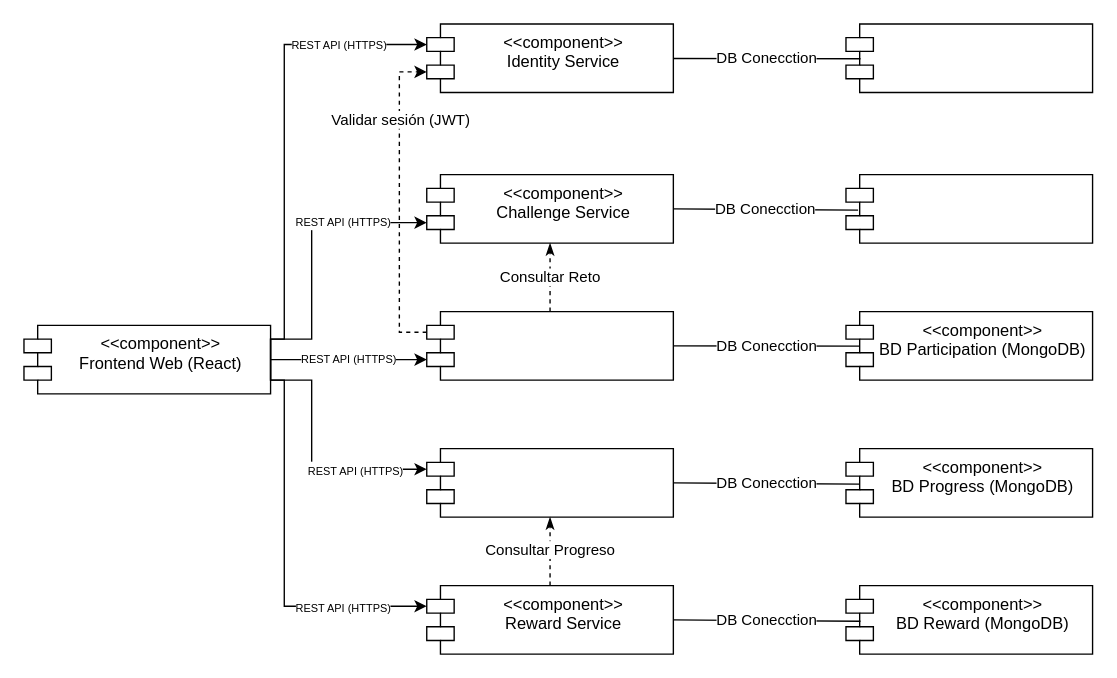
Image size: 1117x678. Some labels were removed from this diagram. Each missing label, with the centre of its shape:
"<<component>> BD Challenge (MongoDB)" goes at (x=969, y=208).
"<<component>> BD Identity (MongoDB)" goes at (x=969, y=57).
"<<component>> Participitacion Service" goes at (x=549, y=345).
"<<component>> Progress Service" goes at (x=549, y=482).
